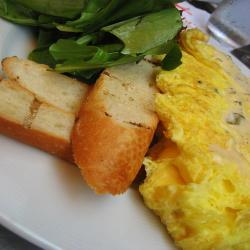bread: (2, 57, 160, 193)
omelette: (157, 31, 247, 250)
salad: (6, 1, 180, 71)
